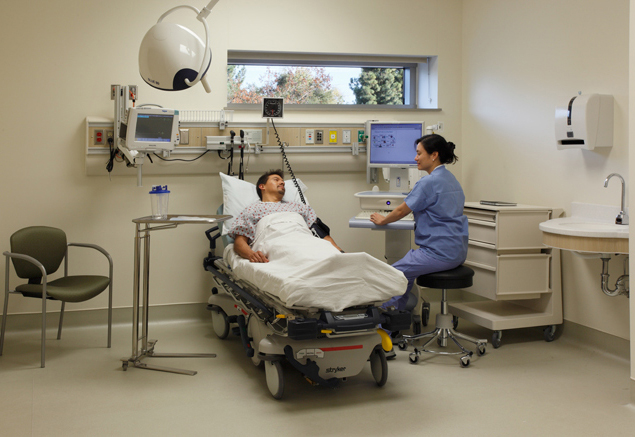bedside_monitor: (126, 106, 179, 151)
chair: (1, 225, 114, 370), (397, 263, 487, 367)
computer: (366, 120, 429, 169)
dispenser: (554, 92, 613, 153)
faucet: (604, 172, 630, 225)
hospital_bed: (201, 168, 395, 400)
keyboard: (356, 210, 416, 223)
medical_drawer: (448, 198, 565, 349)
overbed_table: (117, 212, 230, 377)
patient: (228, 169, 409, 287)
sink: (541, 218, 631, 298)
staff: (369, 133, 469, 343)
surgical_light: (138, 24, 211, 90)
